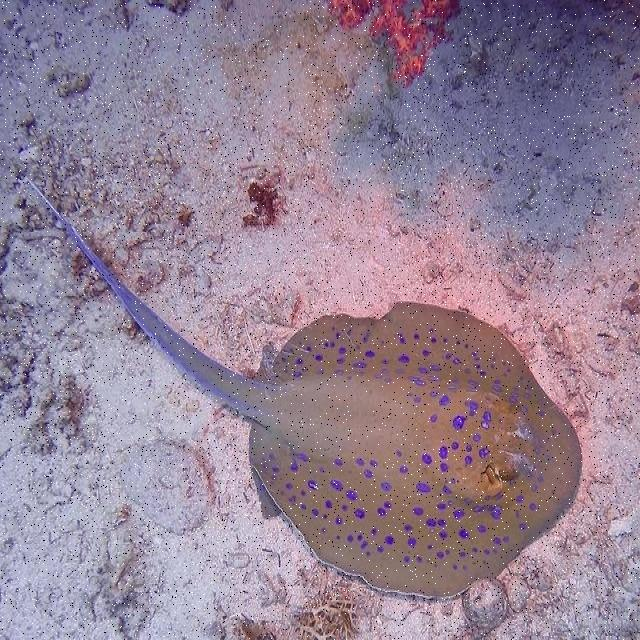fish: (24, 181, 582, 600)
